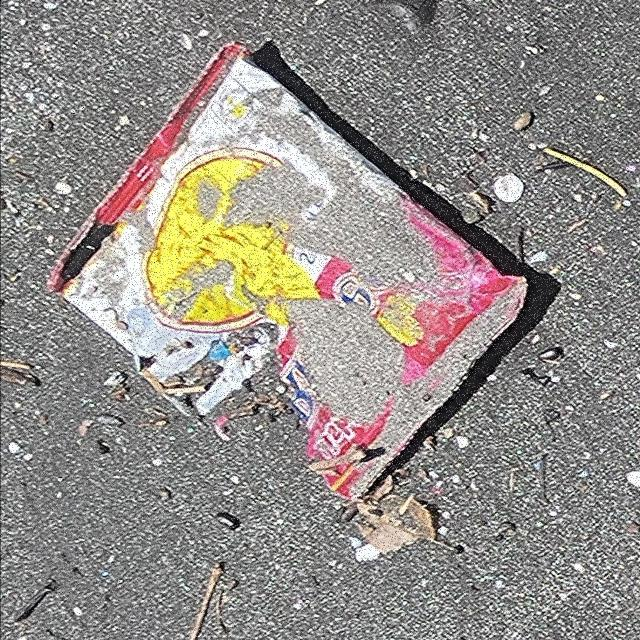plastic_waste: (46, 40, 530, 505)
